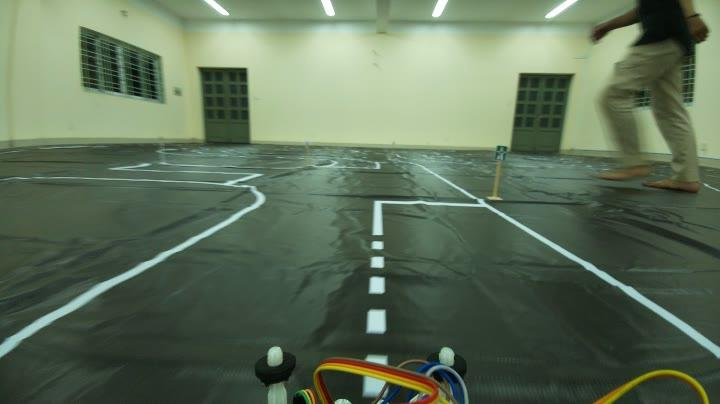highway_exit: (492, 142, 509, 166)
